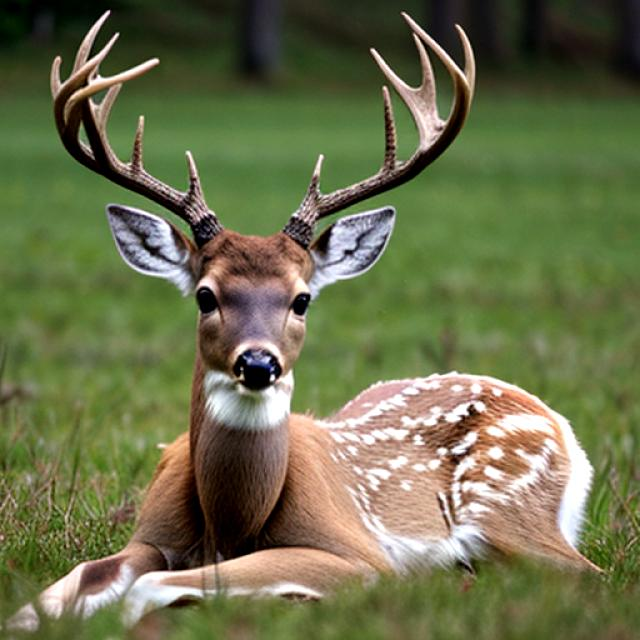deer: (20, 21, 561, 628)
